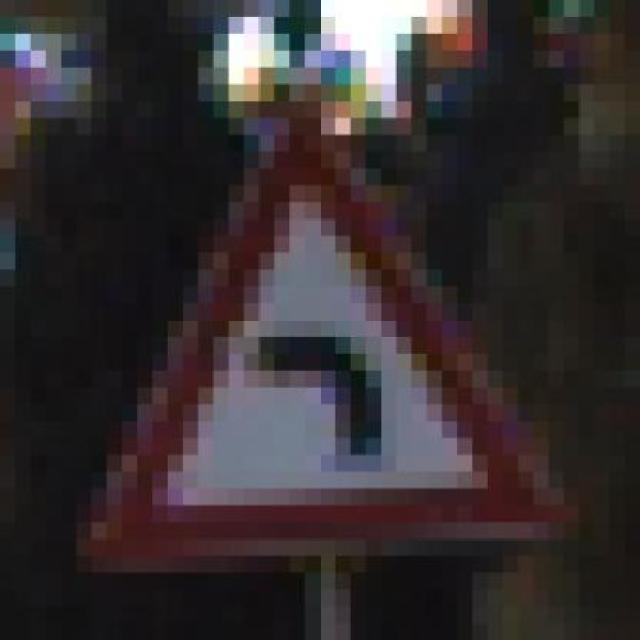Dangerous Left Curve Ahead: (61, 101, 579, 573)
